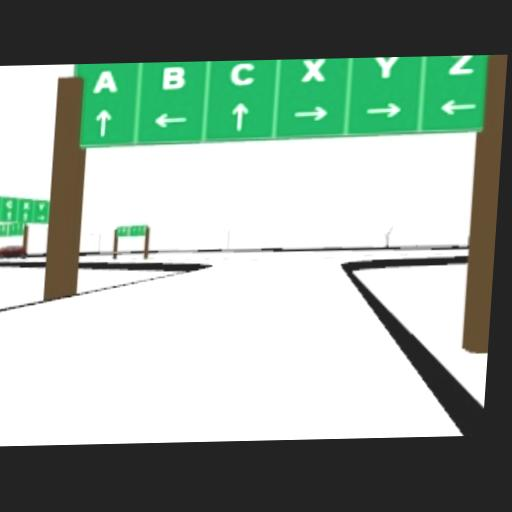A: (92, 69, 119, 92)
B: (161, 64, 186, 88)
C: (229, 59, 257, 86)
Left: (439, 98, 478, 114), (153, 111, 188, 127)
Right: (365, 100, 402, 116), (294, 104, 328, 120)
Straight: (230, 101, 248, 128), (94, 107, 111, 134)
X: (300, 58, 328, 80)
Y: (372, 56, 400, 77)
Z: (447, 54, 475, 73)
